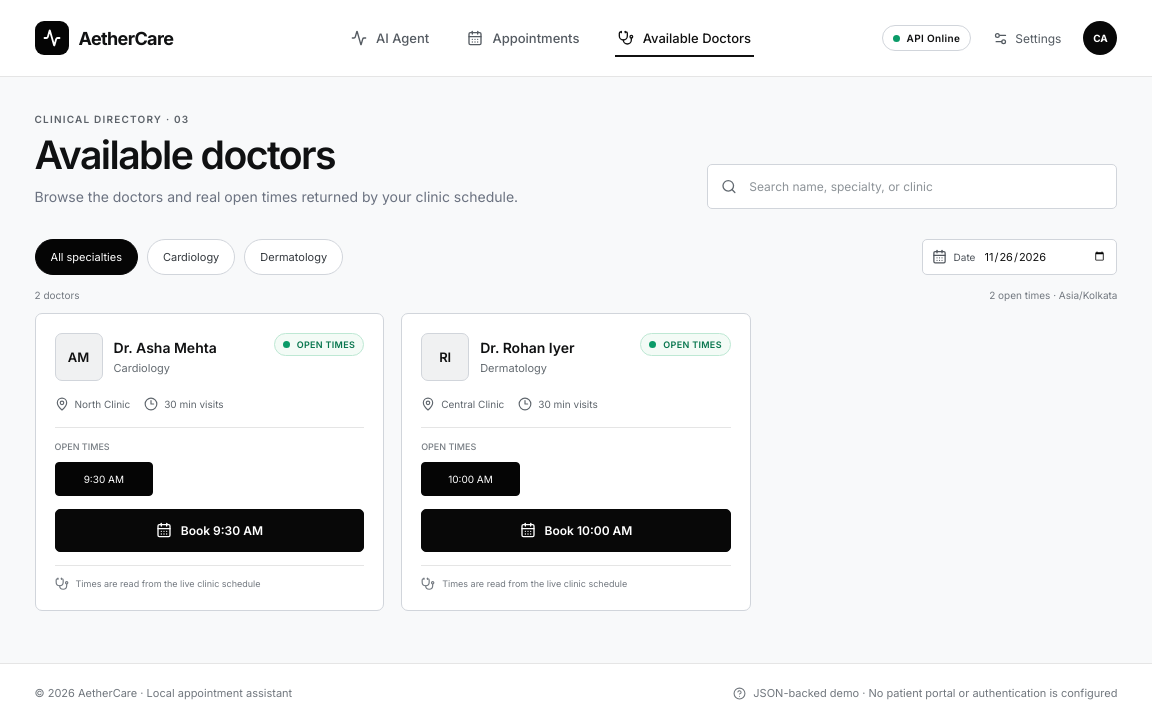
Scenario: AetherCare client screens › shows doctors from the API and filters by specialty
expect the heading "Dr. Asha Mehta" is shown: met, box [114,339,217,357]
expect the heading "Dr. Rohan Iyer" is shown: met, box [480,339,575,357]
Click the button "Cardiology": (191, 257) [147,239,235,275]
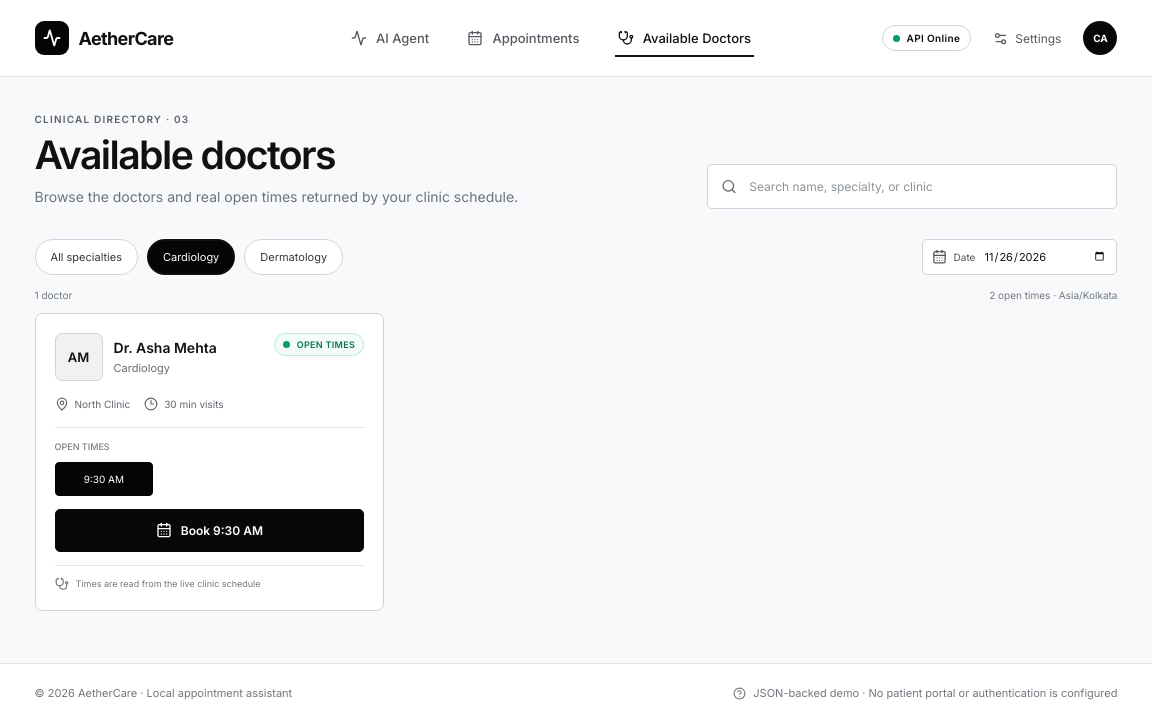
expect the heading "Dr. Asha Mehta" is shown: met, box [114,339,217,357]
expect the heading "Dr. Rohan Iyer" is gone: met
